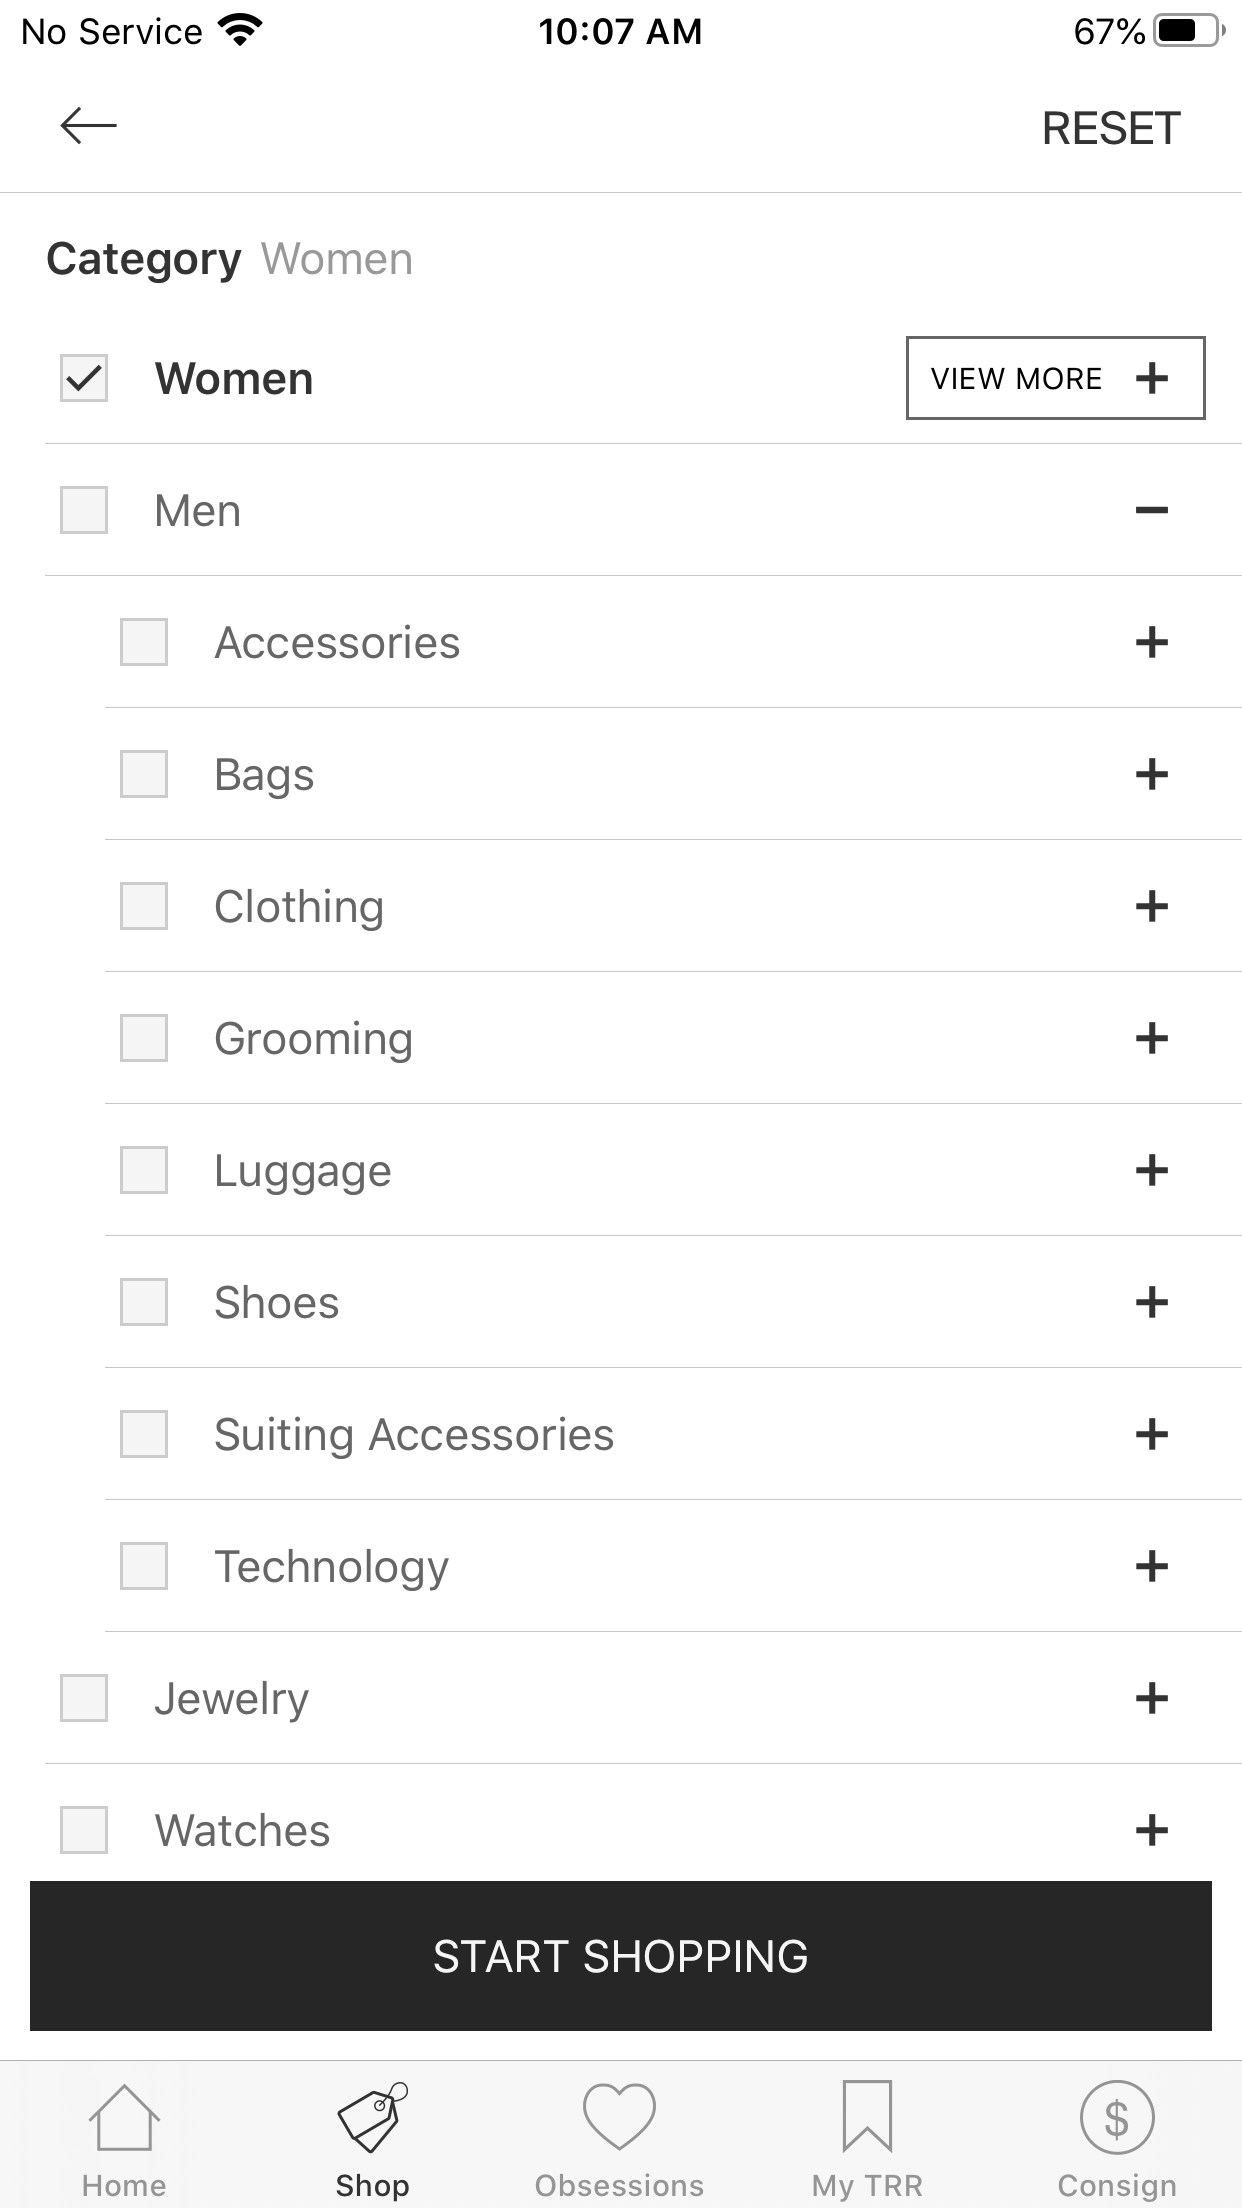CheckedTextView: (120, 1410, 616, 1460), (120, 619, 461, 667), (121, 1542, 450, 1592), (121, 1015, 412, 1065), (121, 1146, 391, 1197), (120, 883, 384, 933), (61, 1806, 332, 1855), (61, 353, 314, 403), (61, 1674, 309, 1723), (121, 1278, 340, 1327), (120, 751, 315, 801), (61, 485, 241, 535)
Icon: (1080, 2081, 1156, 2155), (338, 2082, 409, 2153), (584, 2084, 657, 2150), (89, 2084, 162, 2150), (842, 2081, 893, 2153), (61, 108, 118, 146), (1136, 1022, 1168, 1055), (1136, 626, 1168, 660), (1136, 1814, 1168, 1846), (1136, 1682, 1168, 1714), (1136, 1550, 1168, 1582), (1136, 1418, 1168, 1450), (1136, 1286, 1168, 1318), (1136, 1154, 1168, 1186), (1136, 892, 1168, 924), (1136, 760, 1168, 792), (1136, 362, 1168, 394), (1136, 507, 1168, 516)
Text: (215, 1416, 614, 1460), (215, 1548, 450, 1591), (215, 1021, 412, 1065), (215, 625, 461, 660), (49, 243, 243, 284), (215, 889, 384, 933), (218, 1154, 391, 1197), (156, 1680, 309, 1723), (156, 1812, 331, 1847), (156, 362, 312, 396), (262, 243, 412, 276), (1043, 111, 1181, 146), (215, 1284, 340, 1319), (535, 2173, 704, 2197), (218, 760, 315, 801), (931, 369, 1101, 391), (1059, 2173, 1175, 2202), (813, 2175, 922, 2202), (158, 494, 240, 528), (337, 2173, 409, 2202), (83, 2175, 167, 2197)
TextButton: (30, 1880, 1212, 2031), (905, 337, 1206, 422)
UpperTaskBar: (2, 2, 1242, 49)
